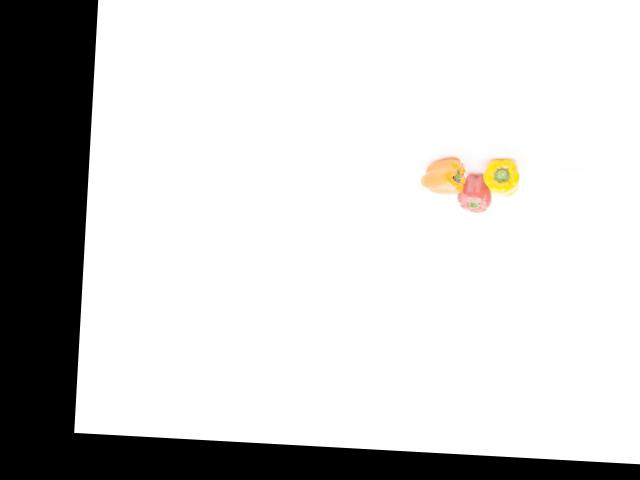bell_pepper: (477, 156, 523, 198)
